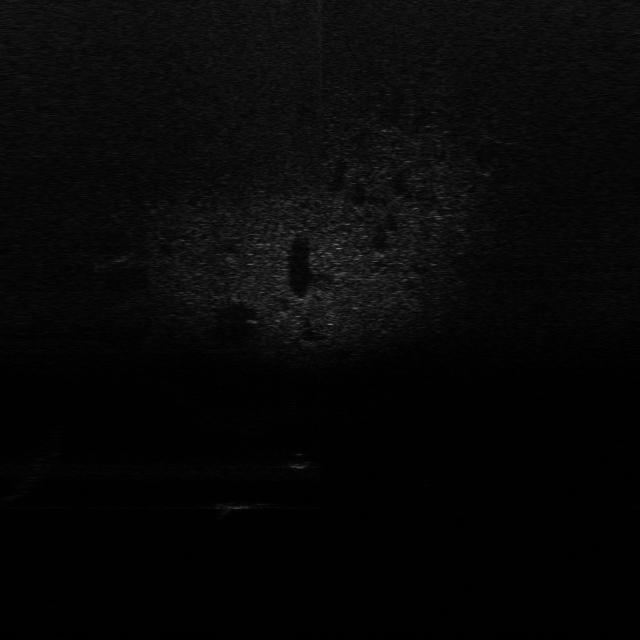ball: (282, 450, 317, 473)
square cage: (217, 495, 259, 513)
